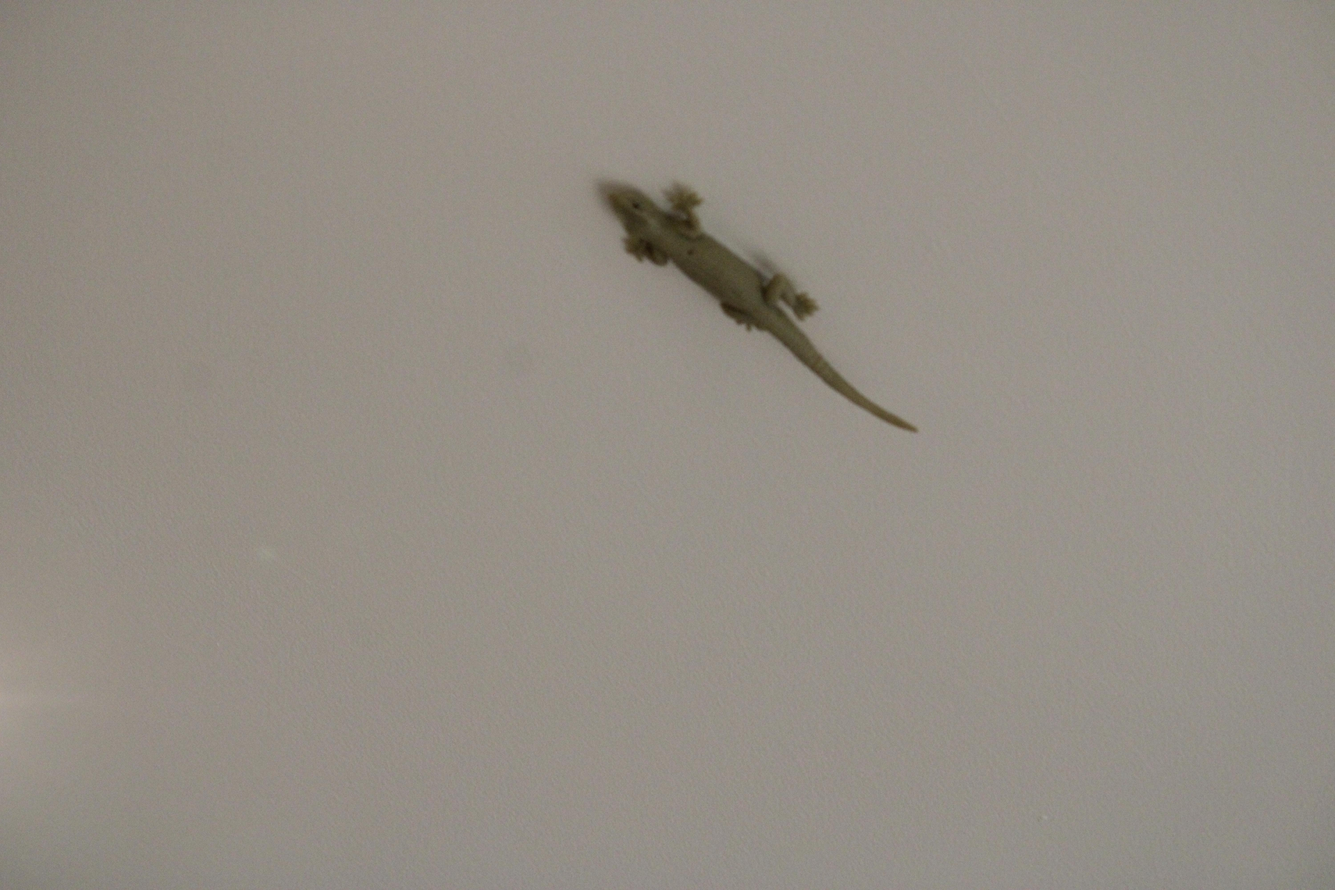lizard: (586, 161, 918, 431)
